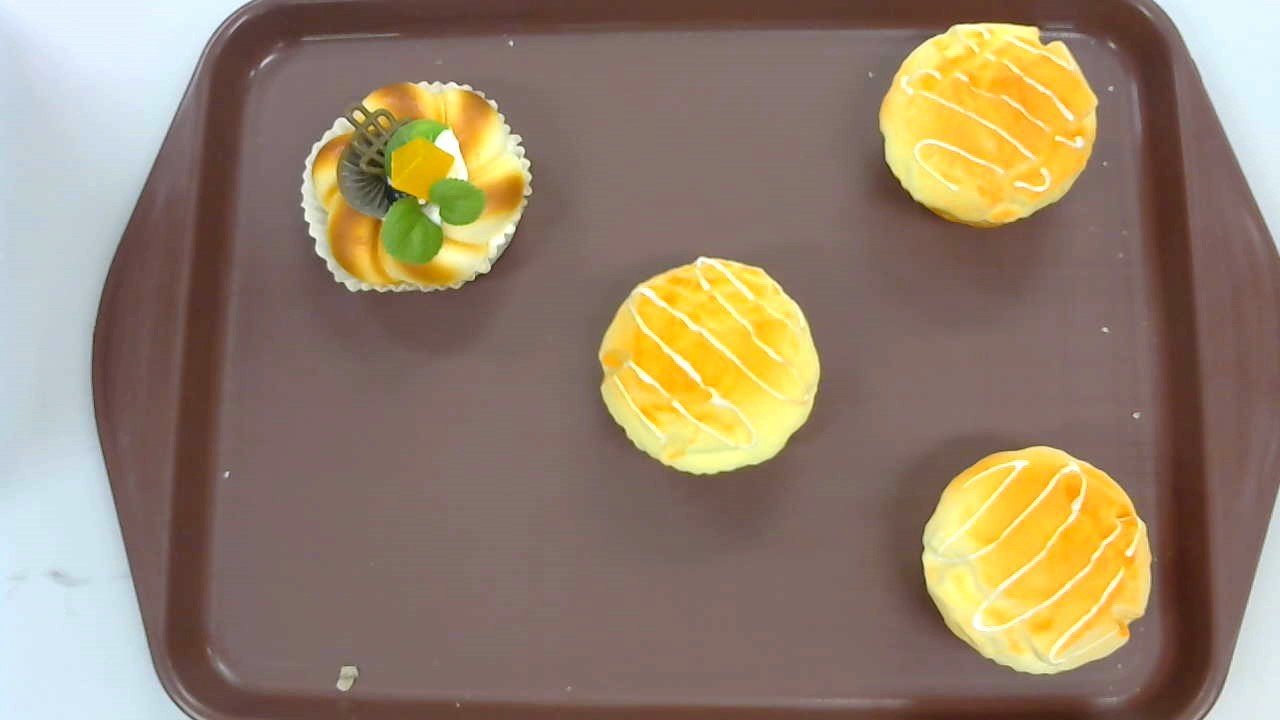cupcake: (922, 446, 1153, 676), (597, 256, 821, 477), (878, 22, 1099, 230)
fruit tart: (299, 77, 534, 294)
